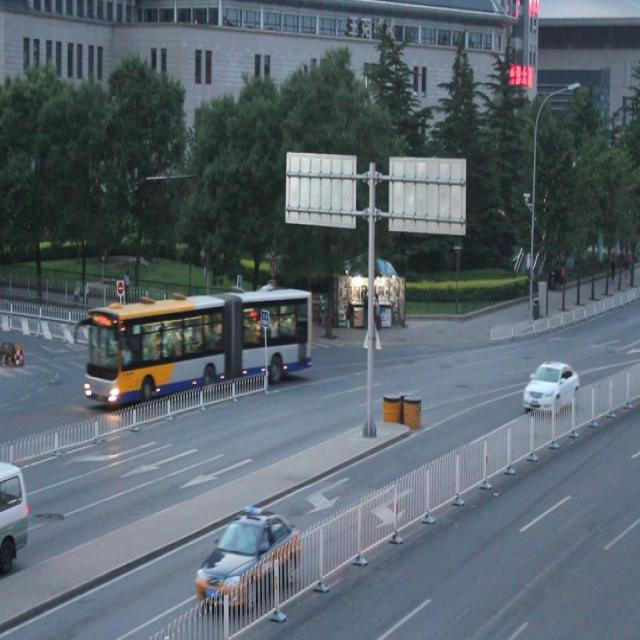car: (196, 513, 300, 602), (150, 299, 211, 354), (521, 358, 578, 414)
truck: (1, 454, 28, 568)
van: (87, 292, 314, 400)
